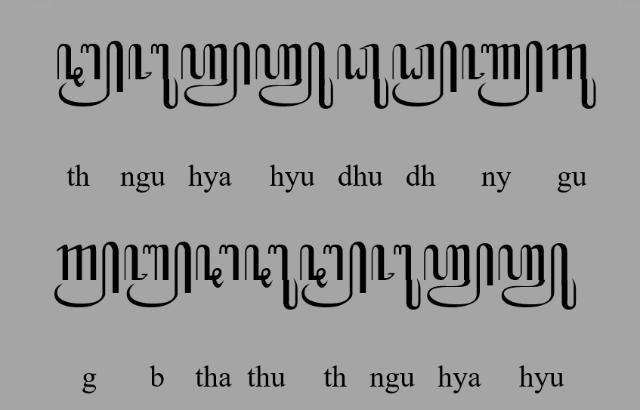-b: (124, 242, 192, 308)
-dh: (391, 40, 457, 108)
-g: (54, 242, 120, 308)
-ny: (462, 39, 544, 108)
-th: (299, 241, 367, 309), (56, 39, 124, 106)
dhu: (337, 43, 389, 109)
gu: (546, 44, 598, 110)
hy: (423, 242, 495, 308), (181, 41, 251, 107)
hyu: (254, 42, 334, 110), (497, 243, 577, 311)
ngu: (128, 42, 178, 110), (371, 244, 421, 310)
th: (196, 244, 240, 290)
thu: (244, 242, 298, 310)
